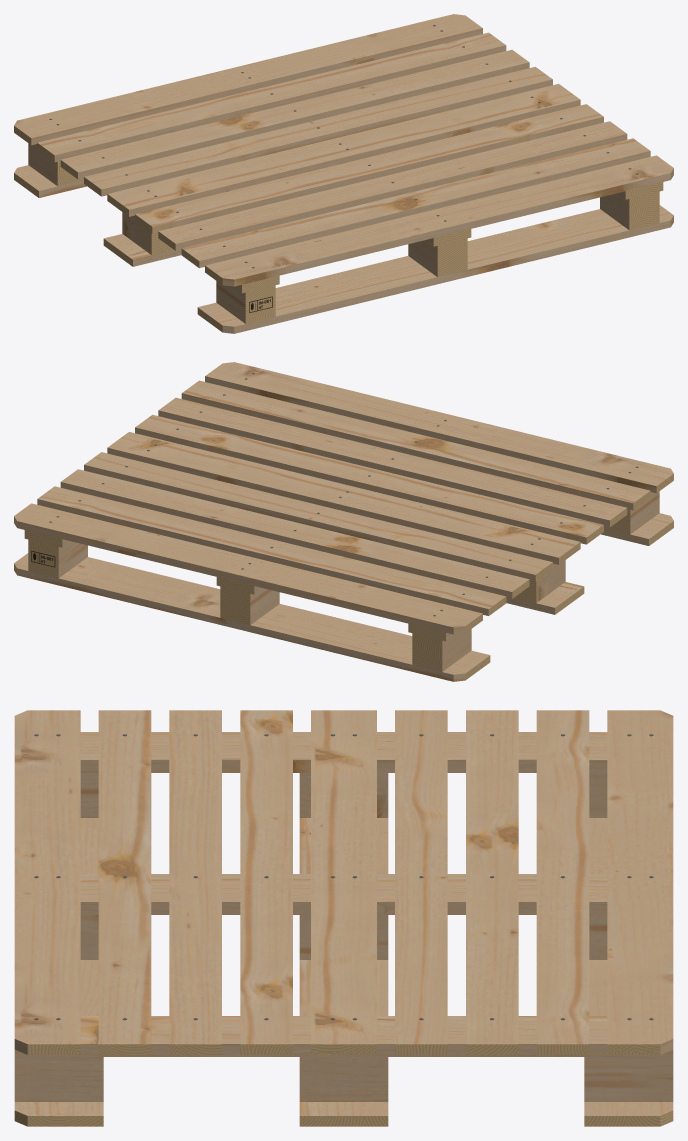
File: cp1-type-pallet-1000x1200.glb
3 renders of one model, top to bottom at view 1: azimuth 30°, elevation 25°; view 2: azimuth 150°, elevation 25°; view 3: azimuth 270°, elevation 25°, orthographic. The views are drawn at different scales.
Visible parts, largest first — view 1: cp1-type-pallet-1000x1200; view 2: cp1-type-pallet-1000x1200; view 3: cp1-type-pallet-1000x1200.
Part boxes in pixels (<box>): cp1-type-pallet-1000x1200: <box>14,14,673,333</box>; cp1-type-pallet-1000x1200: <box>14,362,673,681</box>; cp1-type-pallet-1000x1200: <box>14,710,673,1126</box>.
Size of the model in its own units: 1.2 by 0.139 by 1.
Materials: 4 (3 with a texture image).
